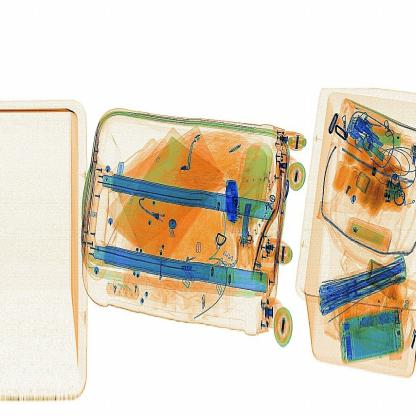scissors: (220, 175, 244, 225)
